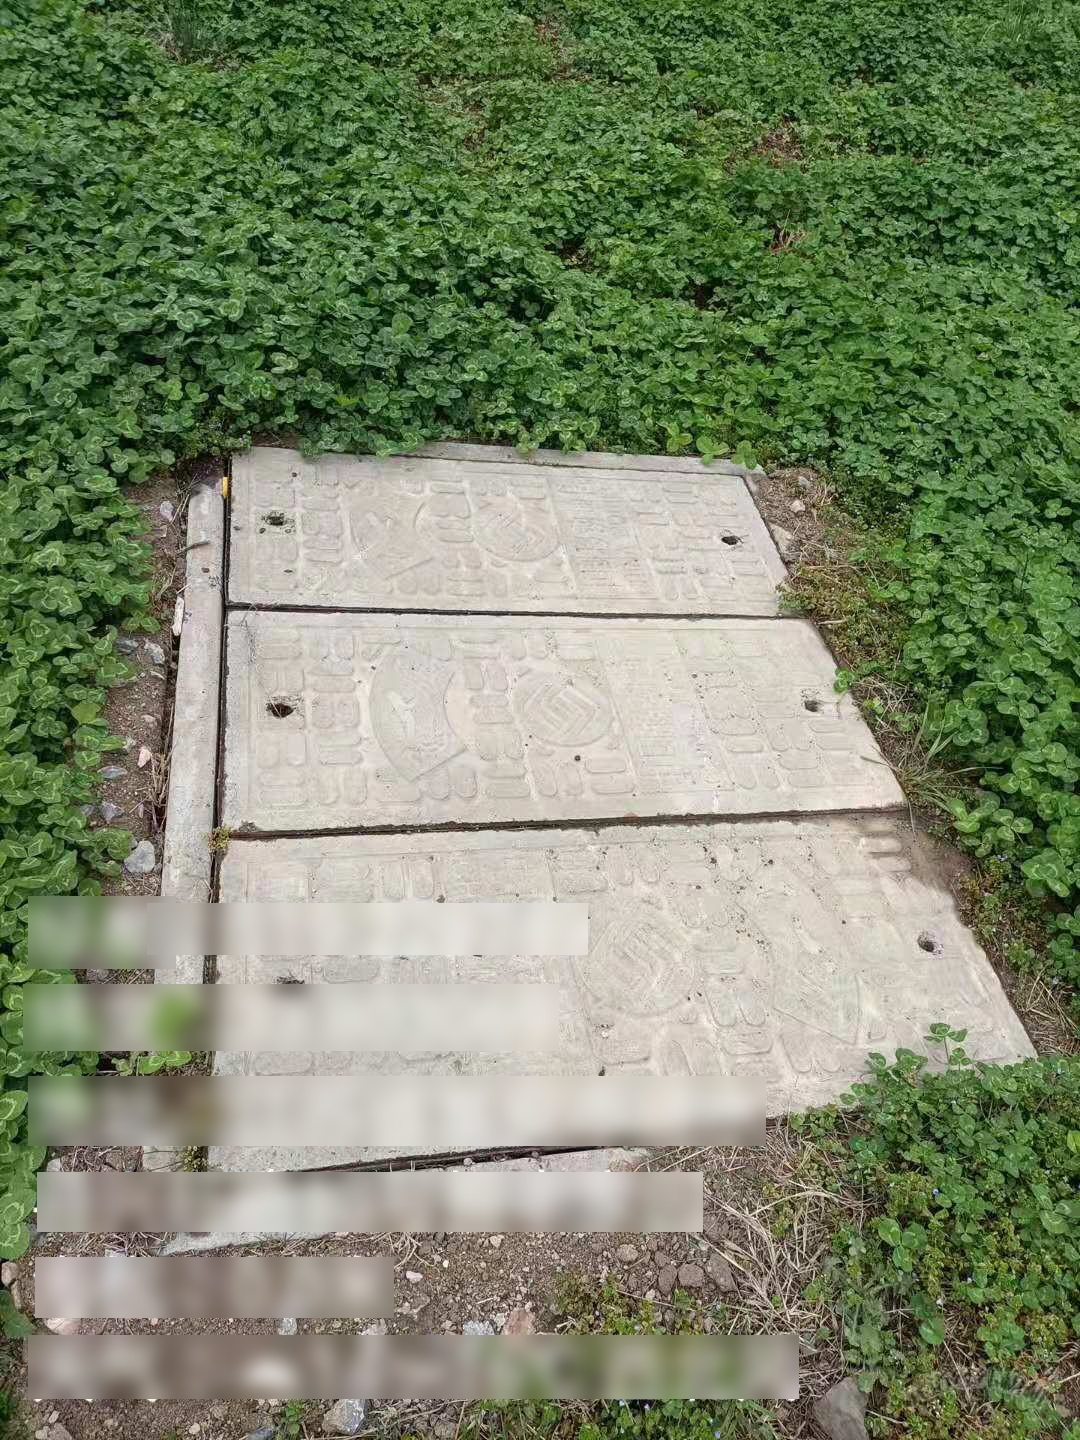good: (150, 423, 1046, 1251)
